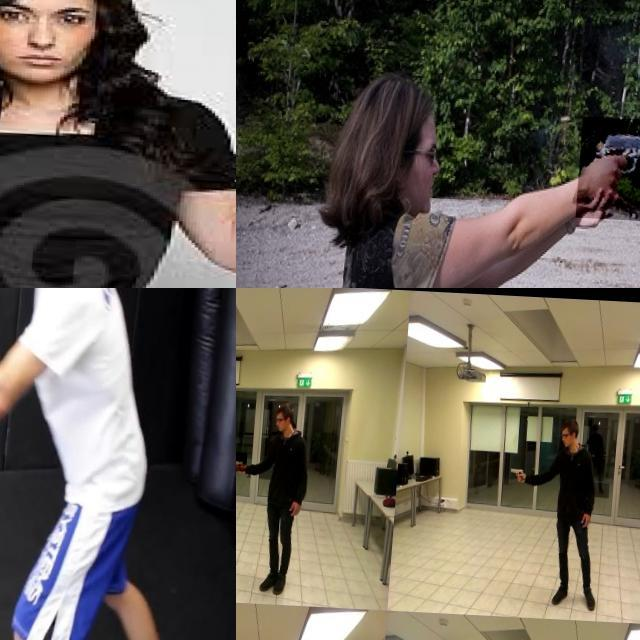-: (0, 420, 56, 514)
gun-knife-thesis - v11 Yolov5 augmented: (580, 112, 640, 217), (508, 458, 527, 478), (236, 450, 249, 469)
